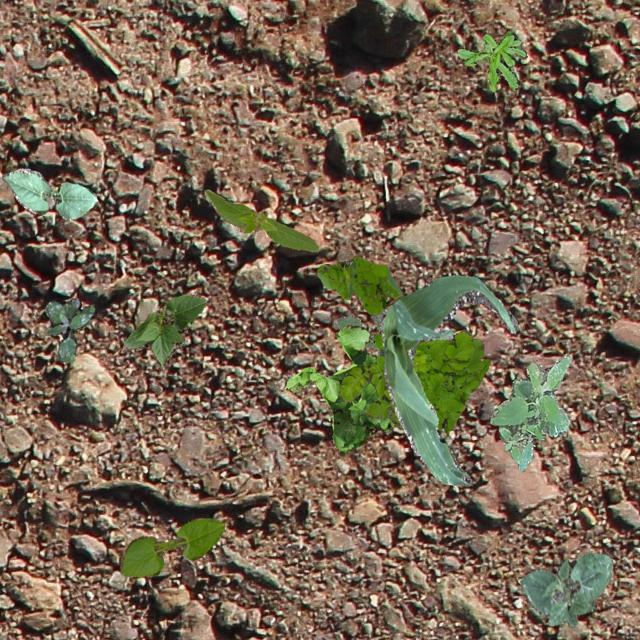crop: (378, 274, 518, 484), (204, 188, 318, 250), (518, 552, 612, 626), (120, 516, 223, 576), (122, 294, 205, 366), (0, 168, 96, 218)
weed: (338, 329, 488, 432), (284, 324, 392, 454), (489, 354, 572, 471), (316, 256, 402, 314), (456, 30, 526, 90), (44, 296, 94, 362), (336, 312, 384, 356)
